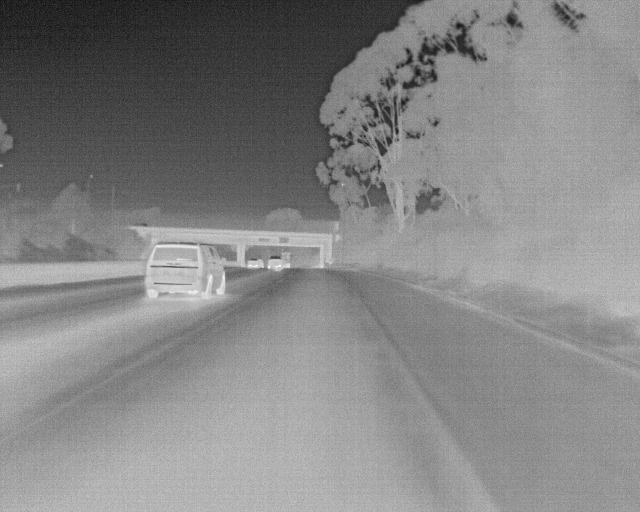car: (142, 243, 230, 299), (267, 255, 287, 271), (245, 257, 264, 269)
